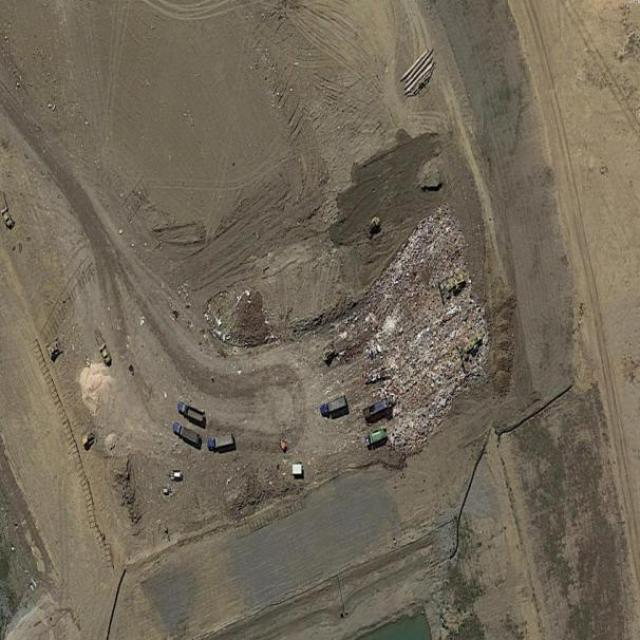dump_site: (311, 184, 498, 472)
